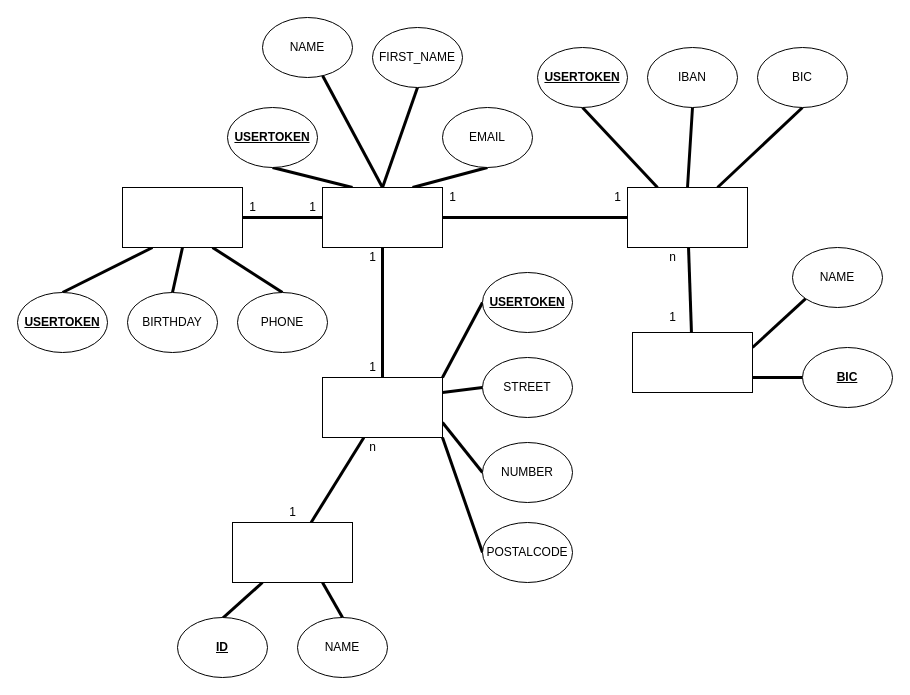
This 910x695 diagram has some shape labels left out. Each missing label, with the box of its shape:
ADDRESS: (322, 376, 442, 438)
BANK: (632, 332, 752, 392)
BANKDATA: (626, 186, 748, 248)
CITY: (232, 522, 352, 582)
PRIVAT_DATA: (122, 186, 242, 248)
USER: (322, 186, 442, 248)
